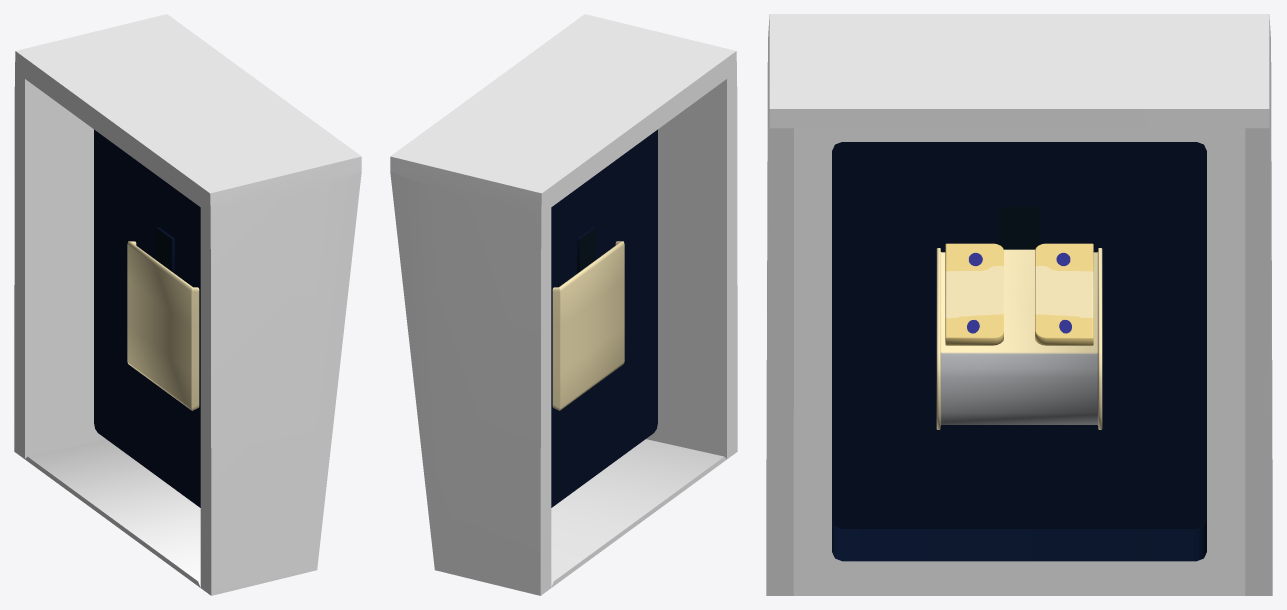
The model's file is TicketMachineMouth.fbx.
3 renders of one model, left to right at view 1: azimuth 30°, elevation 25°; view 2: azimuth 150°, elevation 25°; view 3: azimuth 270°, elevation 25°, orthographic. The views are drawn at different scales.
Visible parts, largest first — view 1: TicketMachineMouth; view 2: TicketMachineMouth; view 3: TicketMachineMouth.
Part boxes in pixels (left/top/right/bottom): TicketMachineMouth: left=14, top=14, right=361, bottom=595; TicketMachineMouth: left=390, top=14, right=737, bottom=595; TicketMachineMouth: left=766, top=14, right=1272, bottom=595.
Bounding box in the file's own units: 0.9261 × 2.06 × 1.84.
